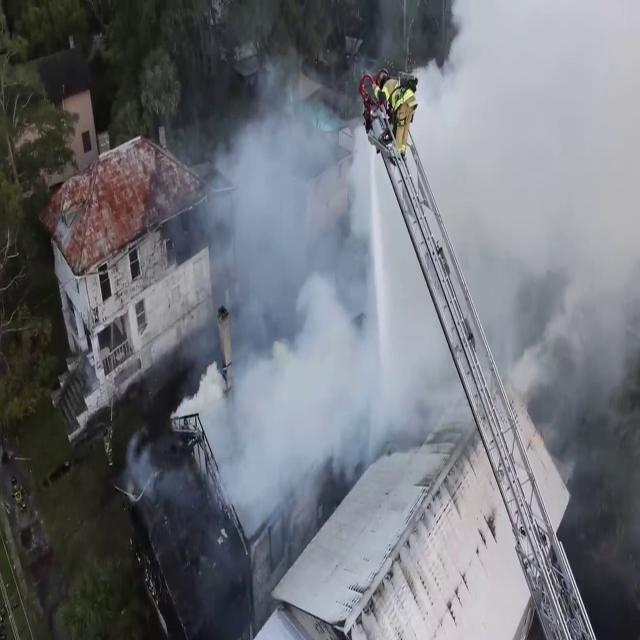Smoke: (180, 316, 348, 489)
